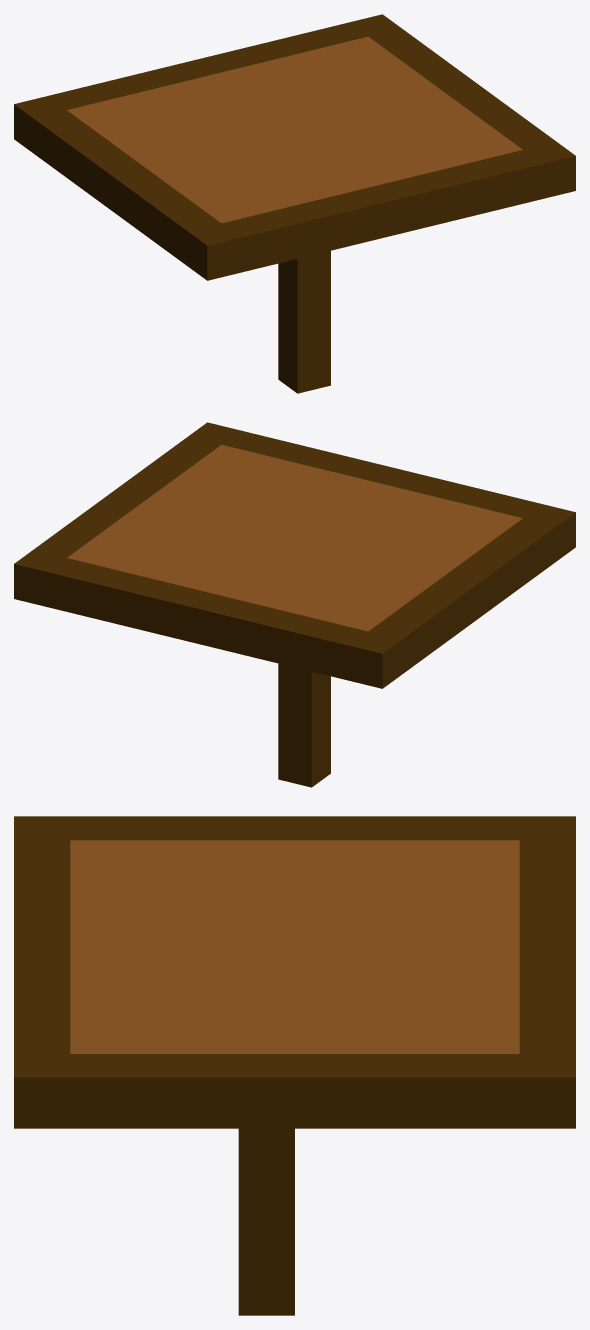
Rendered from table for bar2.obj.
3 renders of one model, top to bottom at view 1: azimuth 30°, elevation 25°; view 2: azimuth 150°, elevation 25°; view 3: azimuth 270°, elevation 25°, orthographic. The views are drawn at different scales.
Size of the model in its own units: 1.1 by 0.7 by 1.
Materials: 1 (1 with a texture image).
